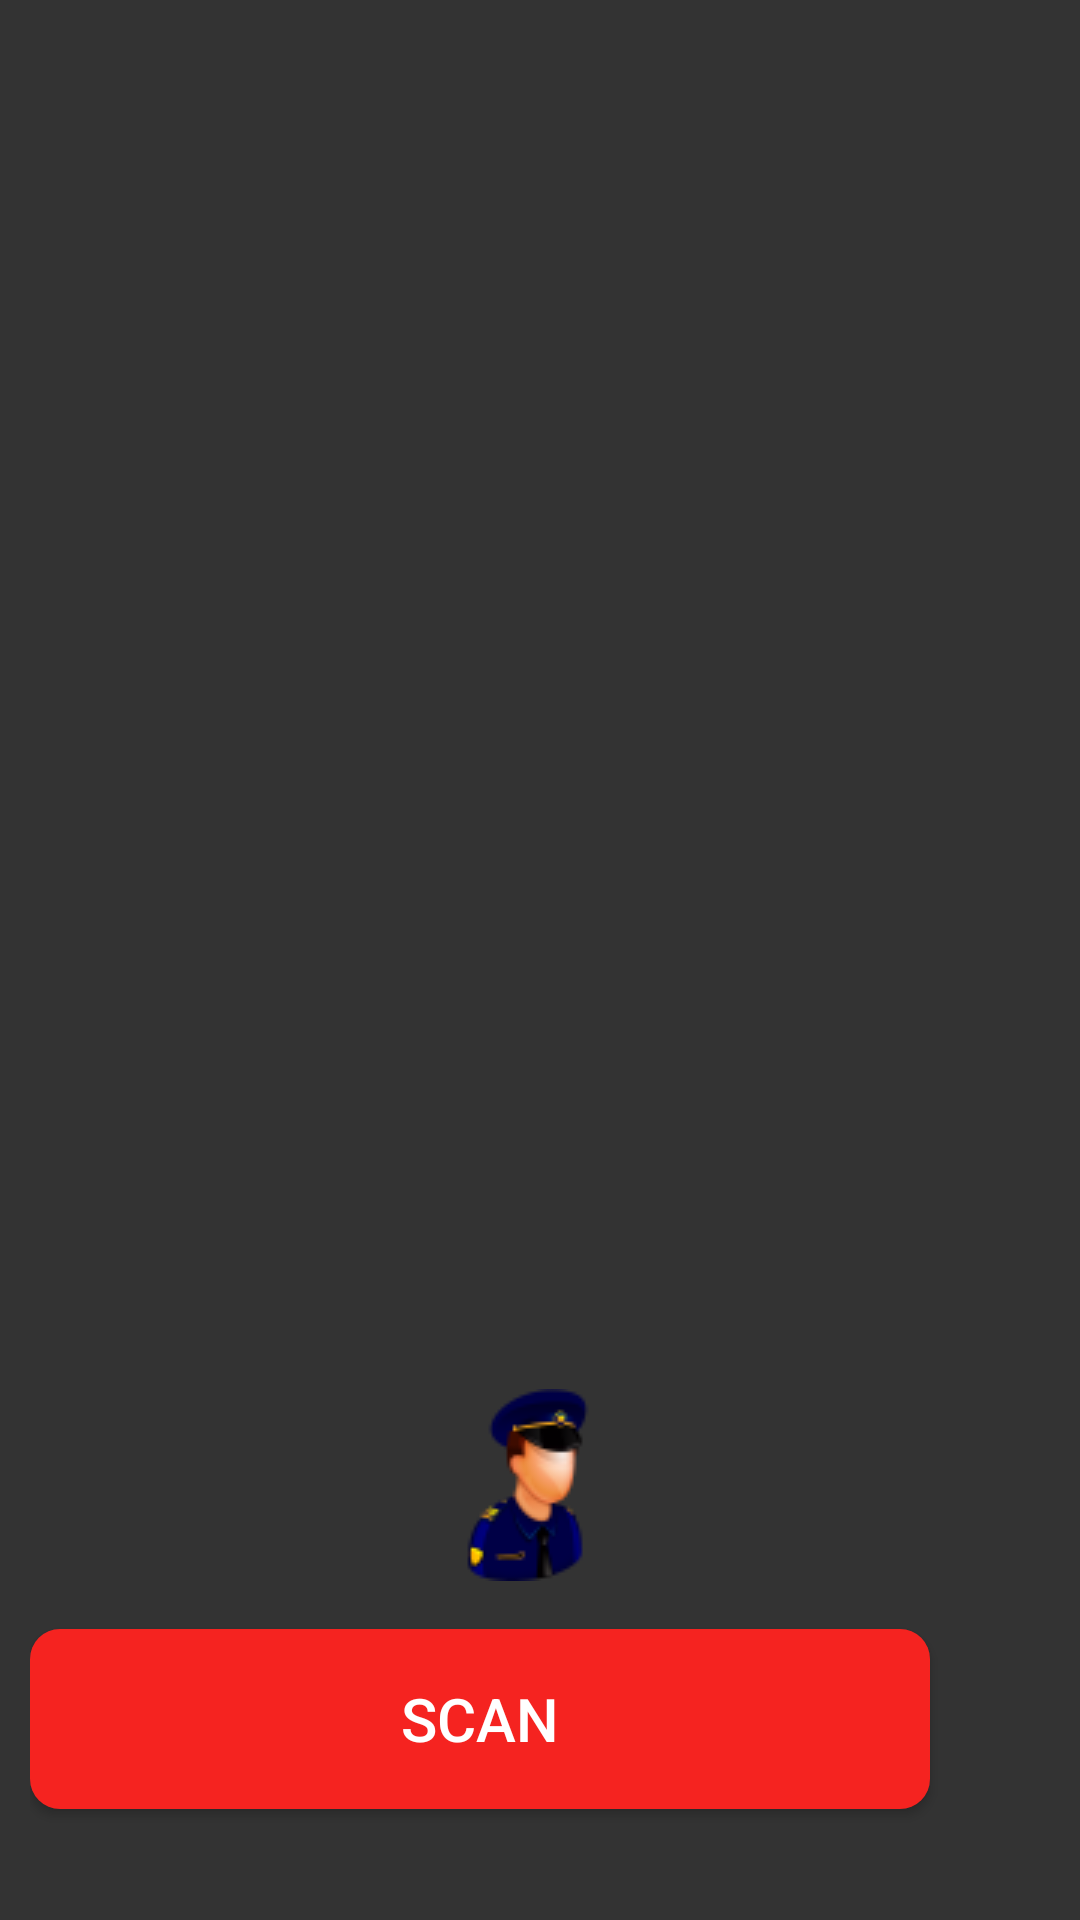

Named icons in this screenshot (1080 × 1920) and their bounding boxes, detection(x1, y1, x2, y2):
police: detection(468, 1389, 586, 1581)
